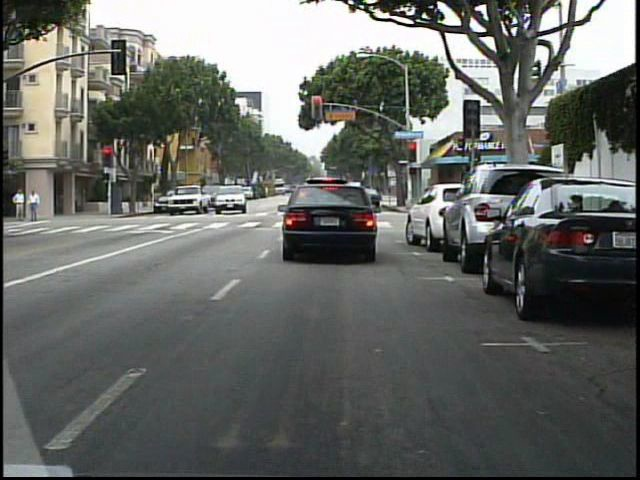person: (28, 187, 43, 223), (15, 185, 29, 221)
